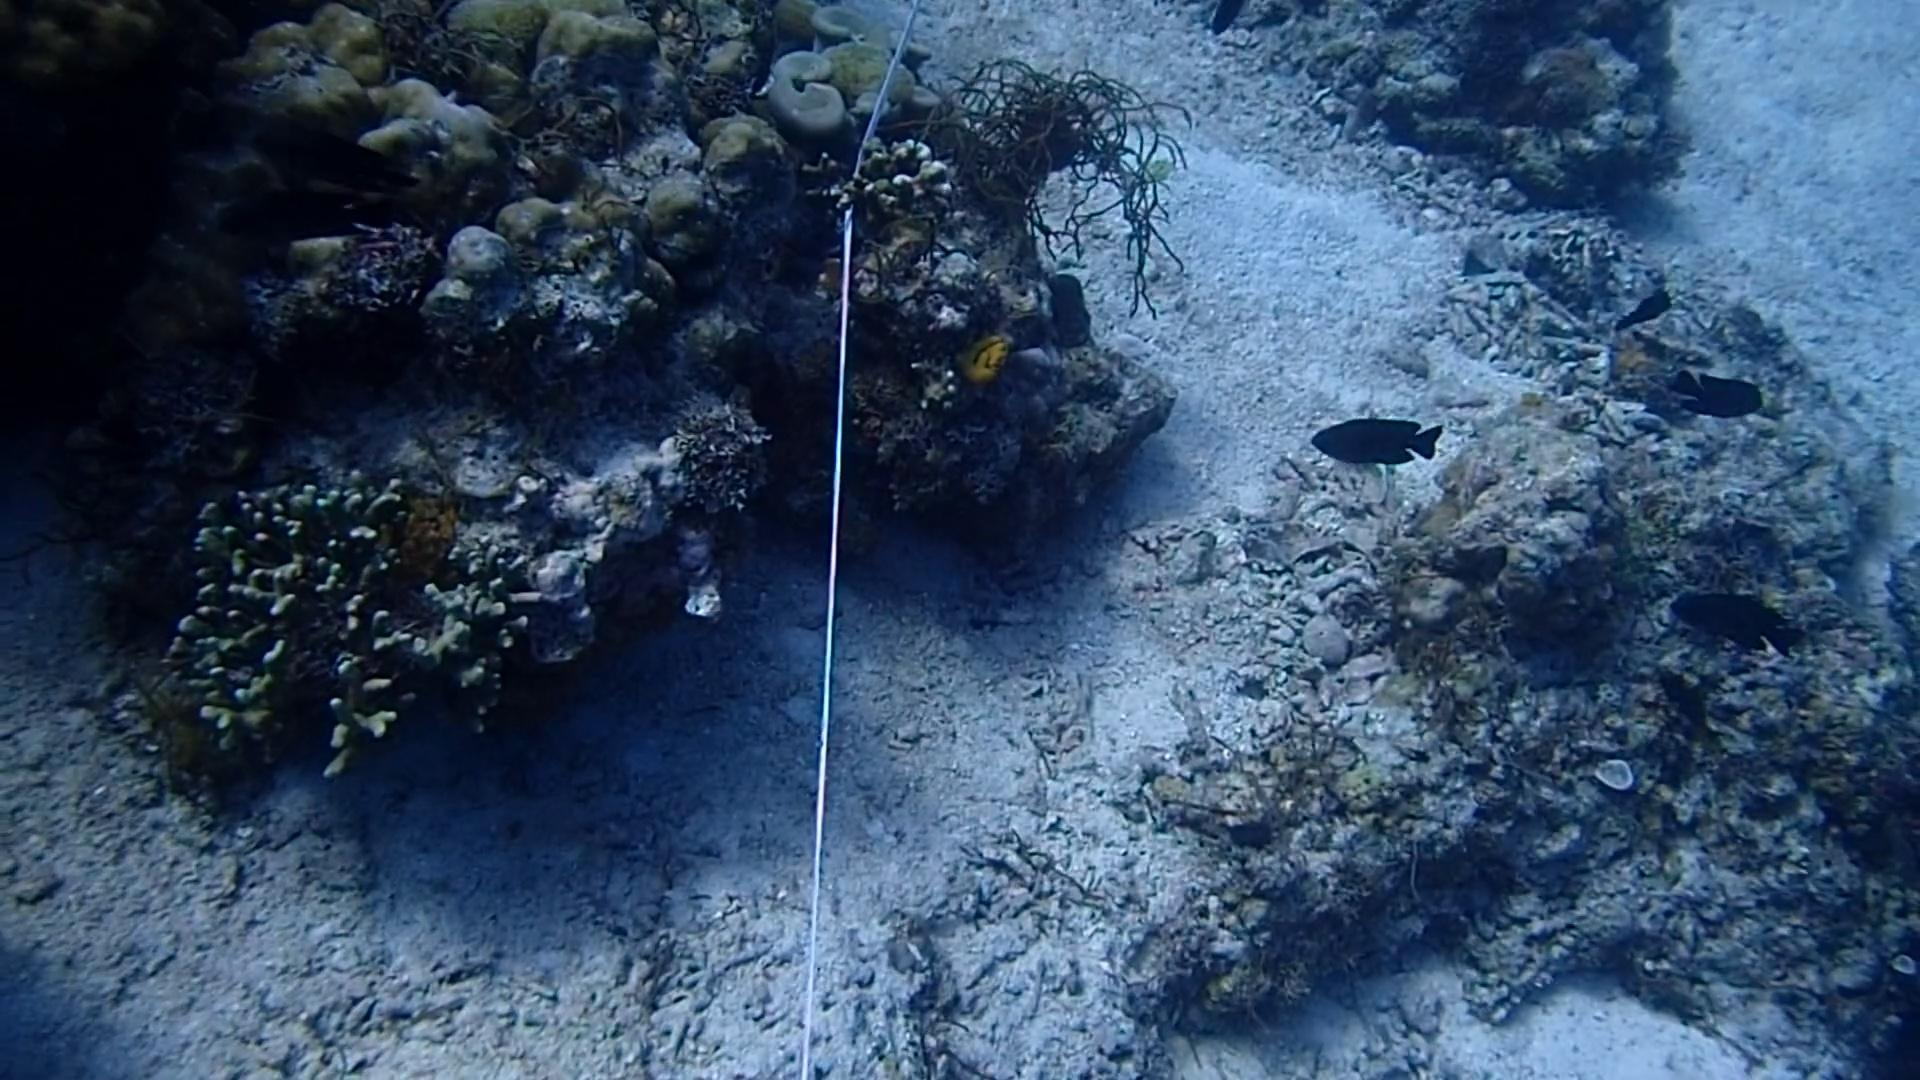Dark Fish: (1659, 578, 1816, 663), (1299, 405, 1443, 481), (1639, 655, 1733, 758), (1656, 360, 1776, 426), (1601, 274, 1689, 342)
